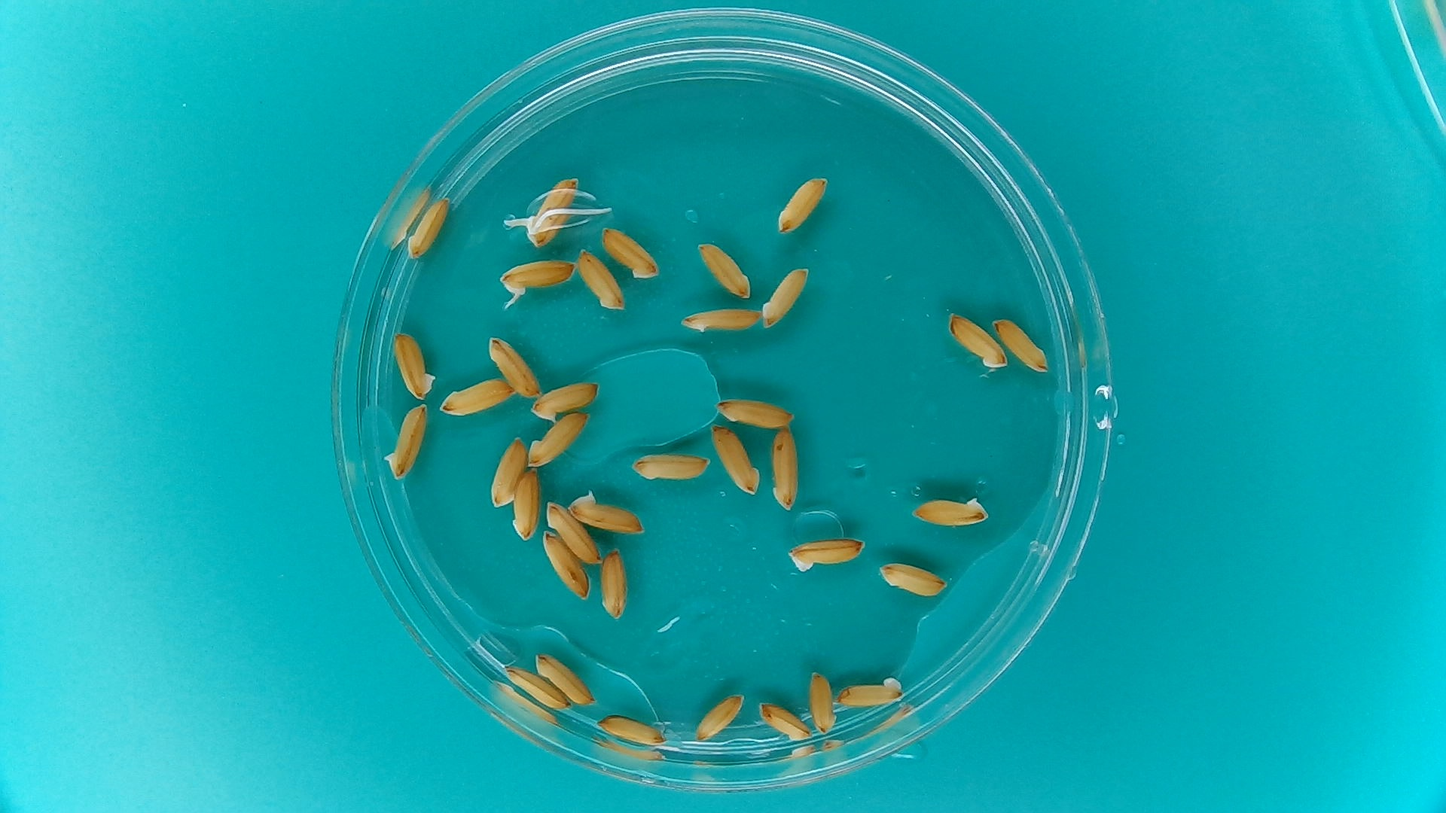no: (526, 410, 588, 470), (383, 403, 429, 483), (947, 311, 1008, 371), (541, 529, 591, 601), (776, 173, 833, 236), (712, 425, 761, 498), (759, 266, 813, 332), (567, 490, 646, 535), (993, 315, 1051, 376), (533, 650, 595, 707), (545, 500, 601, 563), (487, 335, 542, 399), (695, 242, 755, 300), (392, 330, 439, 403), (600, 226, 661, 280), (488, 434, 531, 510), (502, 664, 571, 711), (575, 249, 625, 313), (437, 378, 518, 417), (528, 380, 599, 422), (406, 196, 452, 260), (715, 394, 796, 430), (787, 536, 866, 572), (911, 493, 991, 528), (771, 425, 801, 516), (630, 451, 712, 484), (877, 562, 949, 599), (695, 692, 746, 741), (511, 467, 543, 544), (594, 713, 667, 746), (679, 306, 761, 335), (837, 674, 904, 709), (600, 547, 630, 623), (757, 701, 810, 742), (809, 671, 841, 737)
yes: (527, 178, 578, 248), (499, 257, 575, 295)
